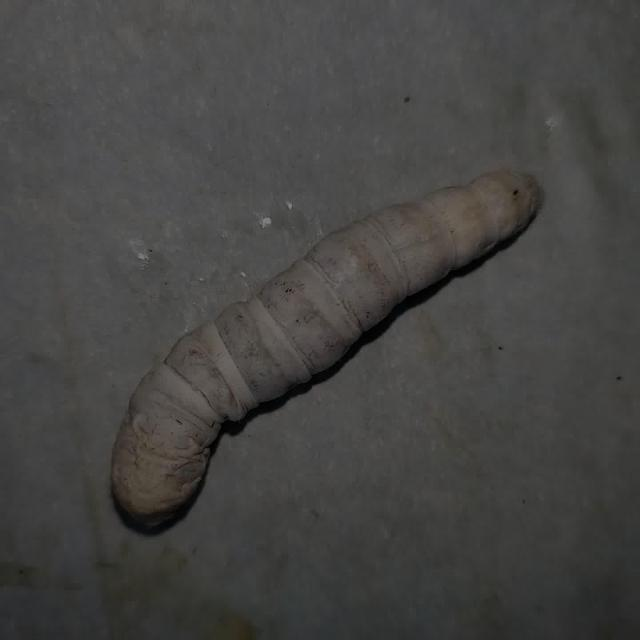Grasserie: (97, 132, 550, 545)
